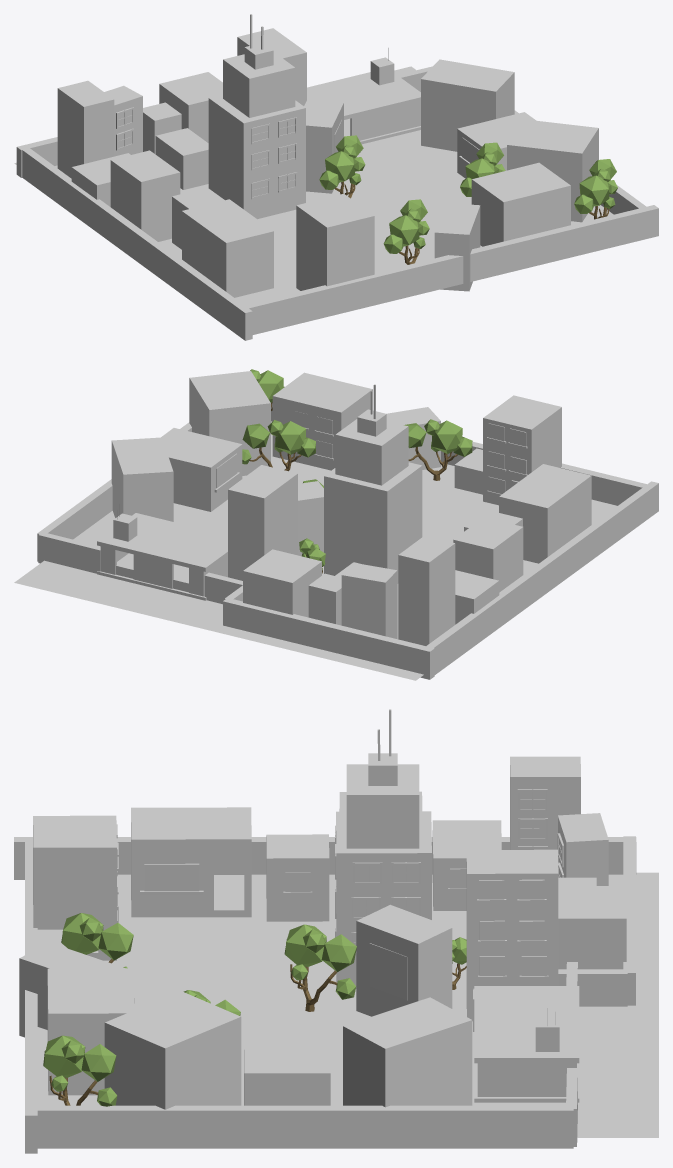
Rendered from Schoolthing.glb.
The picture shows the model from 3 angles, top to bottom: view 1: azimuth 30°, elevation 25°; view 2: azimuth 150°, elevation 25°; view 3: azimuth 270°, elevation 25°; orthographic projection. The views are drawn at different scales.
Visible parts, largest first — view 1: Cube.206, Plane, Cube.005, Cube.208, Cube.013, Cube.012, Cube.016, Cube.026, Cube.010, Cube.014, Cube.003, Cube.032 (+21 smaller); view 2: Plane, Cube.005, Cube.208, Cube.006, Cube.013, Cube.207, Cube.003, Cube.010, Cube.012, Cube.026, Cube.016, Cube.017 (+22 smaller); view 3: Plane, Cube.209, Cube.010, Cube.016, Cube.013, Cube.006, Cube.012, Cube.027, Cube.007, Cube.017, Cube.026, Cube.005 (+21 smaller).
Boxes of the visible parts, box(x1,y1,x2,y2) form: Cube.206: box(237, 205, 658, 334); Plane: box(14, 66, 613, 304); Cube.005: box(208, 94, 305, 219); Cube.208: box(22, 145, 252, 340); Cube.013: box(182, 199, 273, 297); Cube.012: box(296, 193, 374, 290); Cube.016: box(421, 59, 514, 151); Cube.026: box(471, 162, 570, 246); Cube.010: box(507, 119, 598, 222); Cube.014: box(110, 150, 180, 241); Cube.003: box(57, 80, 114, 178); Cube.032: box(223, 52, 295, 117); Plane: box(14, 421, 616, 680); Cube.005: box(324, 462, 422, 583); Cube.208: box(421, 481, 658, 679); Cube.006: box(228, 465, 297, 580); Cube.013: box(499, 464, 591, 563); Cube.207: box(223, 598, 434, 679); Cube.003: box(398, 536, 455, 645); Cube.010: box(189, 371, 270, 475); Cube.012: box(483, 395, 561, 505); Cube.026: box(272, 372, 372, 470); Cube.016: box(111, 437, 173, 521); Cube.017: box(161, 428, 242, 511); Plane: box(37, 872, 658, 1137); Cube.209: box(25, 1105, 573, 1148); Cube.010: box(104, 991, 241, 1109); Cube.016: box(343, 997, 472, 1107); Cube.013: box(131, 807, 251, 917); Cube.006: box(466, 849, 558, 1021); Cube.012: box(33, 815, 116, 960); Cube.027: box(474, 986, 579, 1063); Cube.007: box(356, 904, 452, 1016); Cube.017: box(244, 1028, 330, 1105); Cube.026: box(47, 968, 134, 1095); Cube.005: box(336, 811, 431, 988).
Bounding box in the file's own units: 102 × 46.18 × 99.71.
